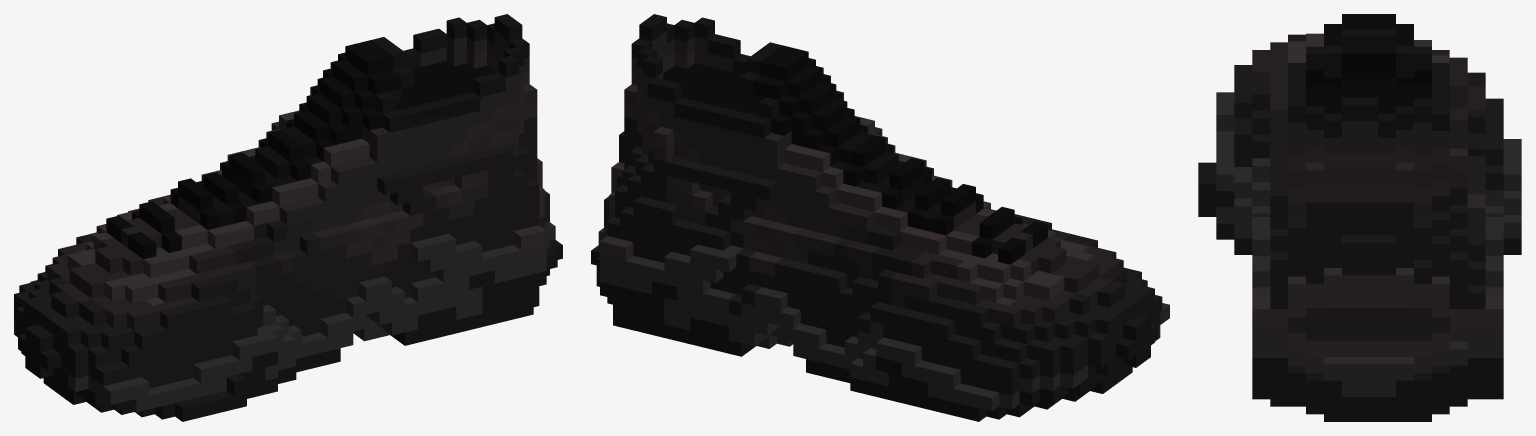
File: Iguana.fbx
3 renders of one model, left to right at view 1: azimuth 30°, elevation 25°; view 2: azimuth 150°, elevation 25°; view 3: azimuth 270°, elevation 25°, orthographic. The views are drawn at different scales.
Visible parts, largest first — view 1: Untitled; view 2: Untitled; view 3: Untitled.
Boxes of the visible parts, box(x1,y1,x2,y2) form: Untitled: box(14, 14, 562, 421); Untitled: box(591, 14, 1169, 421); Untitled: box(1198, 14, 1521, 421).
Size of the model in its own units: 400 by 190 by 180.
